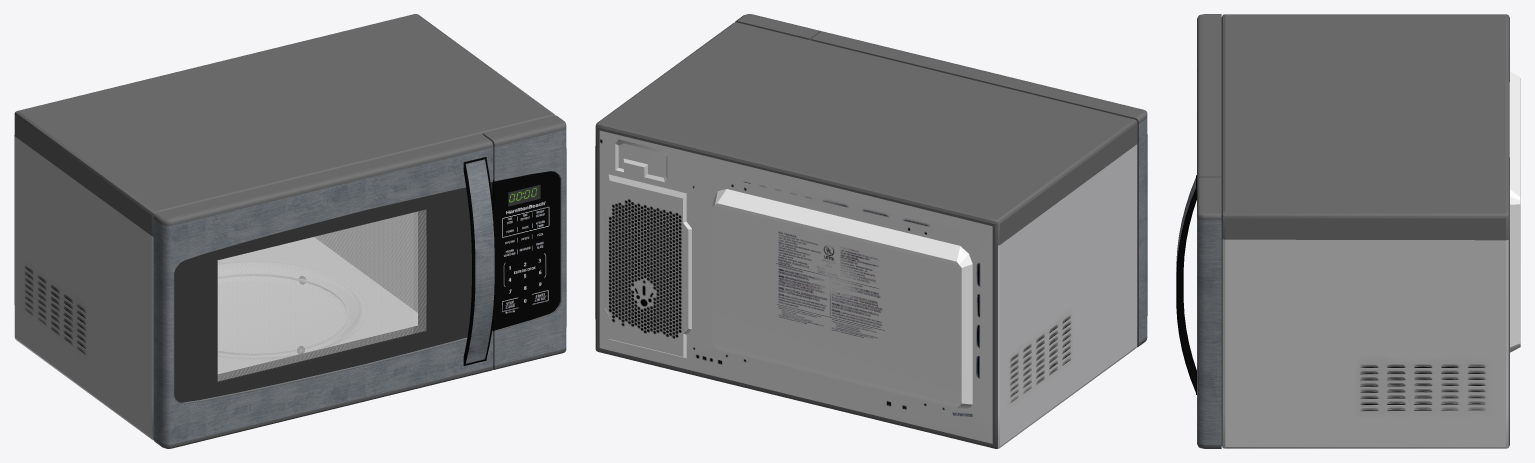
The model's file is hamilton_beach_1.1_stainless_steel_microwave.glb.
The picture shows the model from 3 angles, left to right: view 1: azimuth 30°, elevation 25°; view 2: azimuth 150°, elevation 25°; view 3: azimuth 270°, elevation 25°; orthographic projection. The views are drawn at different scales.
Parts seen in each view (by area): view 1: Body_3, Door Glass_4, Transp Door Plane_11, Metal Frame_10, Frame insd Black_8, Inside_13, NumPad_15, Door Upper edges_5, Glass plate_19, NumPad Metal Frame _18, Hold_9, NumPad Edges_17 (+2 smaller); view 2: Body_3, Backplate_2, Door Upper edges_5, Metal Frame_10, NumPad Edges_17; view 3: Body_3, NumPad Metal Frame _18, Door Upper edges_5, Backplate_2, Hold_9, NumPad Edges_17.
Boxes of the visible parts, x1,y1,x2,y2 form: Body_3: (14, 14, 555, 440); Door Glass_4: (174, 182, 491, 402); Transp Door Plane_11: (217, 210, 426, 381); Metal Frame_10: (153, 147, 492, 444); Frame insd Black_8: (174, 182, 490, 402); Inside_13: (218, 211, 417, 373); NumPad_15: (491, 171, 560, 331); Door Upper edges_5: (153, 133, 492, 448); Glass plate_19: (218, 261, 366, 358); NumPad Metal Frame _18: (492, 129, 566, 365); Hold_9: (463, 157, 496, 365); NumPad Edges_17: (482, 115, 566, 369); Body_3: (595, 22, 1137, 448); Backplate_2: (599, 130, 992, 443); Door Upper edges_5: (811, 31, 1147, 347); Metal Frame_10: (1137, 117, 1147, 342); NumPad Edges_17: (735, 14, 821, 40); Body_3: (1221, 14, 1509, 448); NumPad Metal Frame _18: (1197, 217, 1221, 444); Door Upper edges_5: (1197, 14, 1221, 179); Backplate_2: (1509, 71, 1520, 352); Hold_9: (1176, 175, 1196, 394); NumPad Edges_17: (1197, 177, 1221, 448).
Size of the model in its own units: 0.5171 by 0.3019 by 0.3721.
13 materials, 6 textured.
